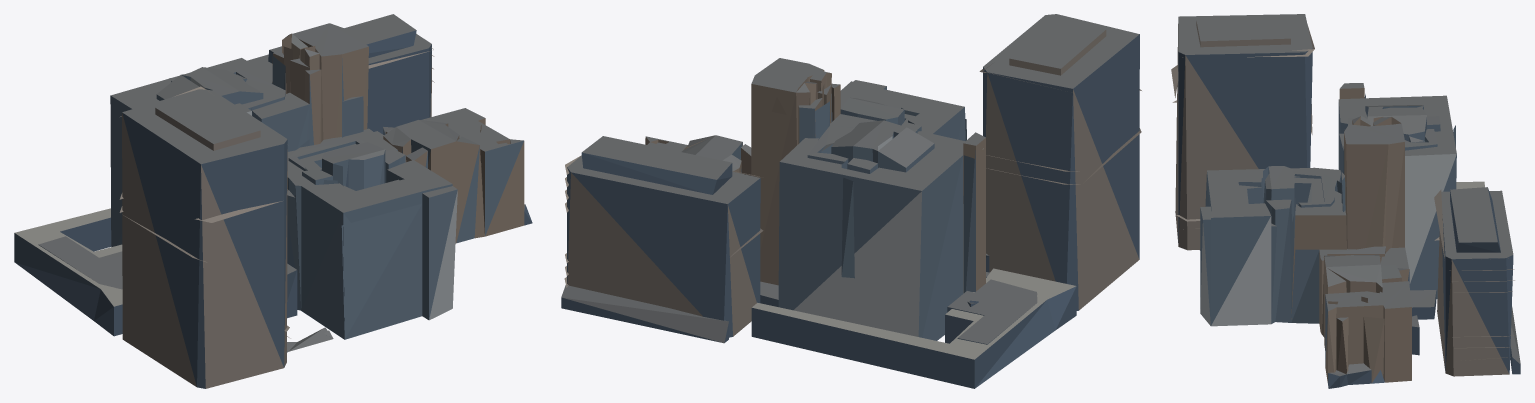
Rendered from atrium-zuidas.lod2.glb.
The picture shows the model from 3 angles, left to right: view 1: azimuth 30°, elevation 25°; view 2: azimuth 150°, elevation 25°; view 3: azimuth 270°, elevation 25°; orthographic projection. The views are drawn at different scales.
Visible parts, largest first — view 1: lod2; view 2: lod2; view 3: lod2.
Boxes of the visible parts, x1,y1,x2,y2 form: lod2: [14, 14, 532, 388]; lod2: [561, 14, 1141, 388]; lod2: [1171, 14, 1520, 388].
Size of the model in its own units: 133 by 68.1 by 107.
